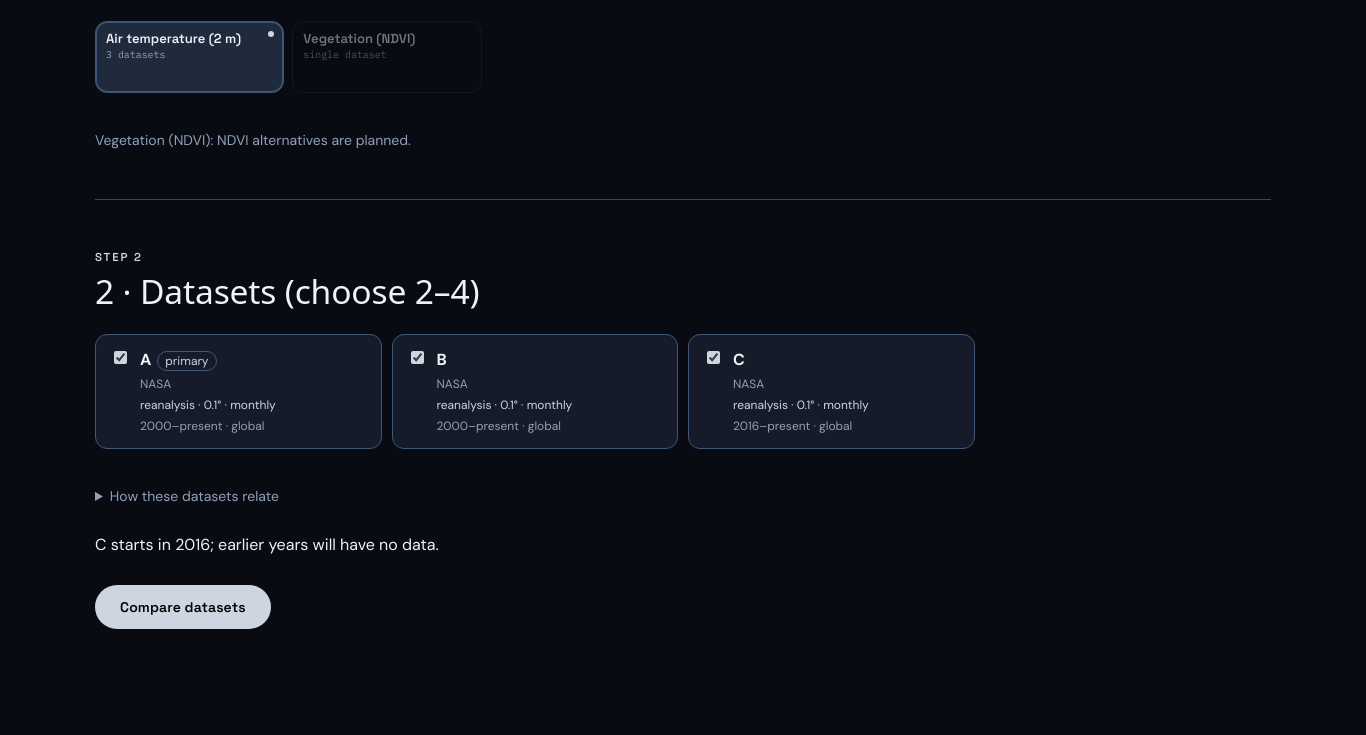
Test case: Compare datasets page › allows a replacement comparison while the obsolete request is still fetching
This screenshot has width=1366, height=735.
(page scrolled)
Click the button "Compare datasets".
click(183, 607)  # box [95,585,271,629]
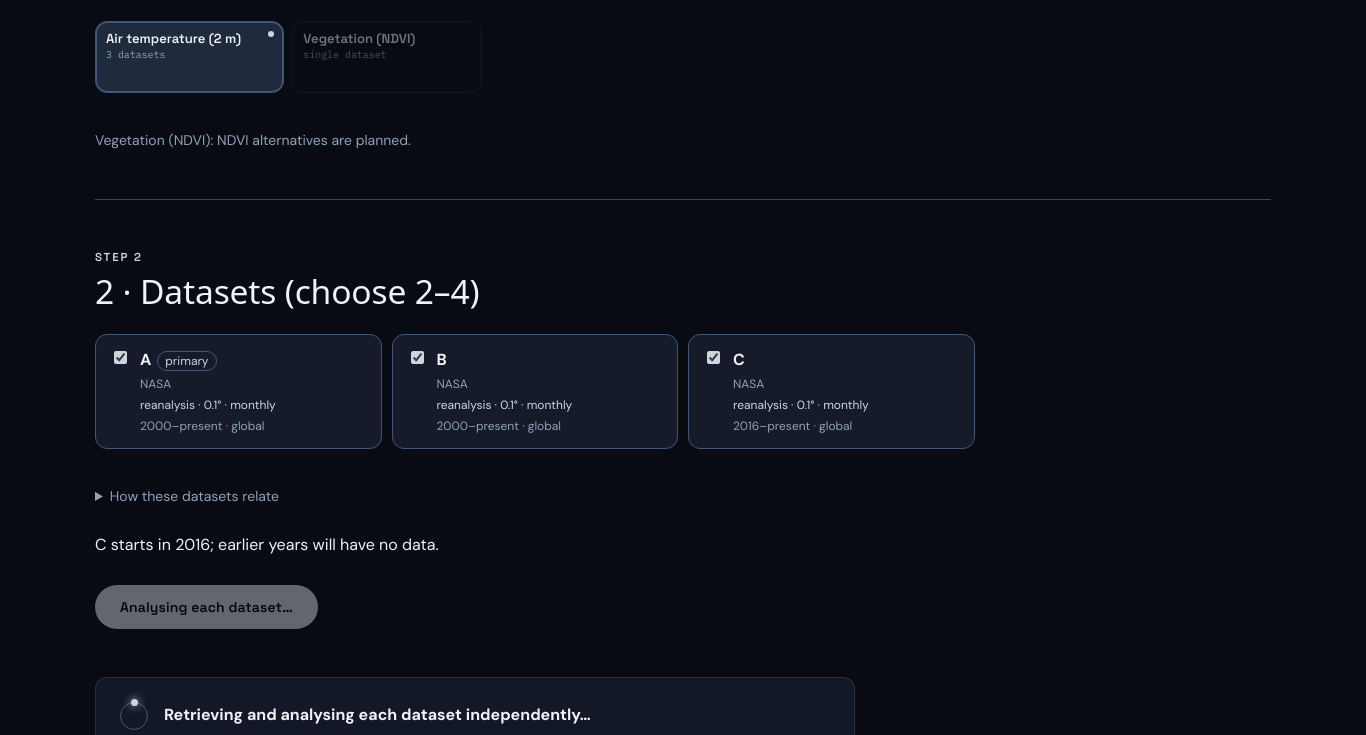
Click the checkbox labelled "C NASA reanalysis · 0.1° · monthly 2016–present · global".
click(714, 358)  # box [707,351,720,364]
(page scrolled)
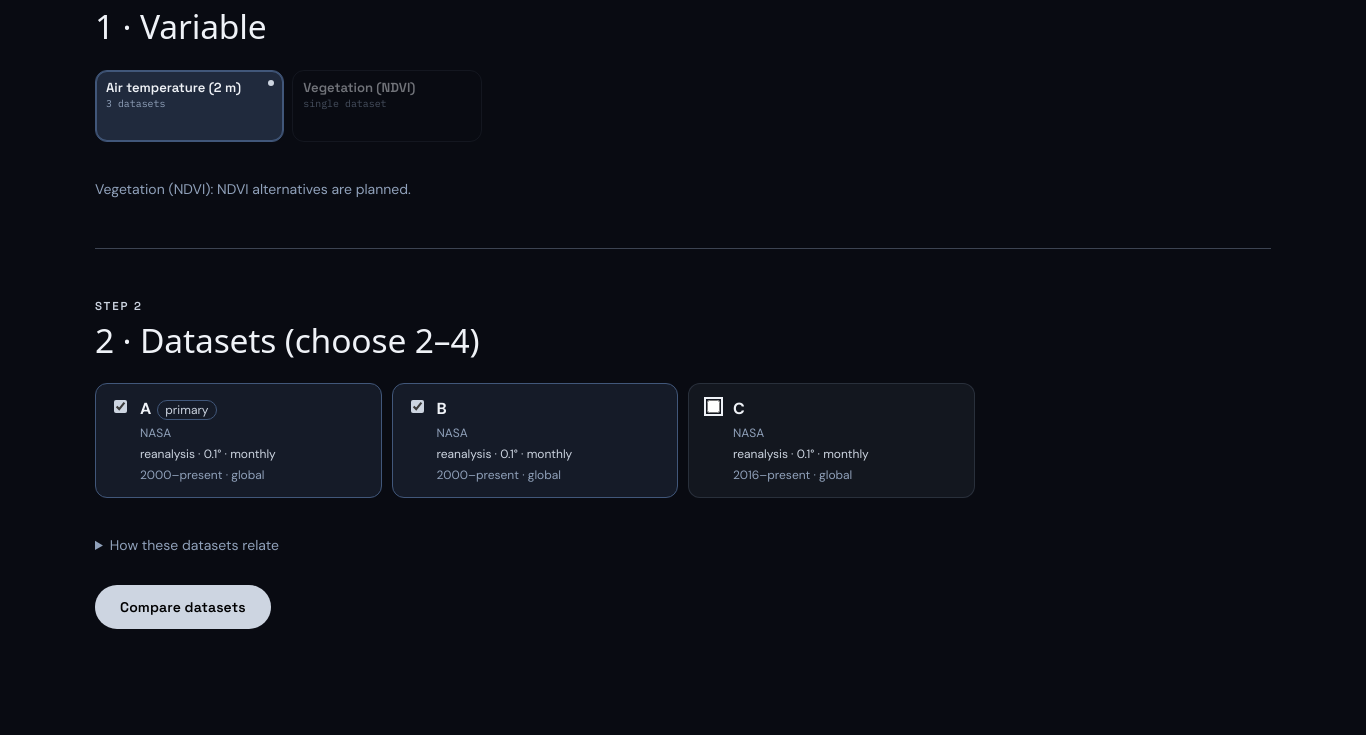
Now the button "Compare datasets" is enabled
Click the button "Compare datasets".
click(183, 607)  # box [95,585,271,629]
(page scrolled)
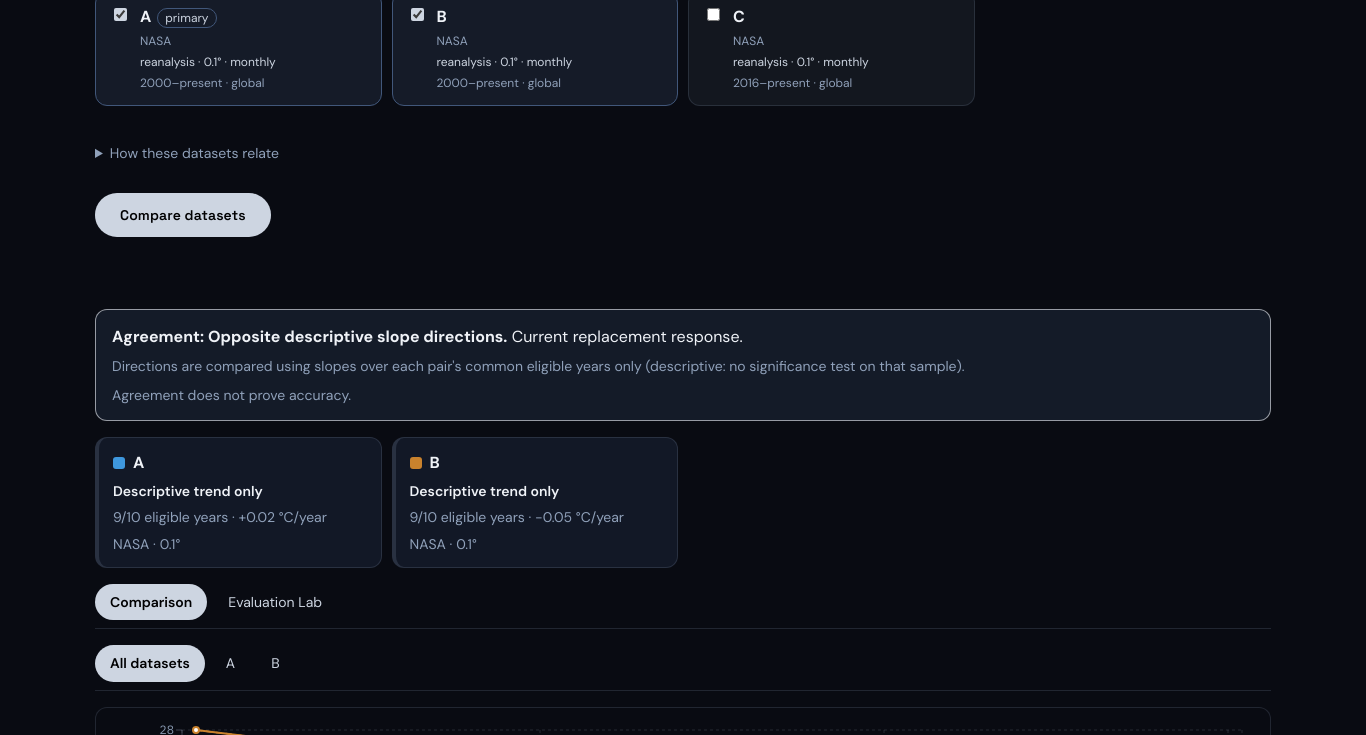
Now the text "Current replacement response." is shown, box [512,326,743,347]
